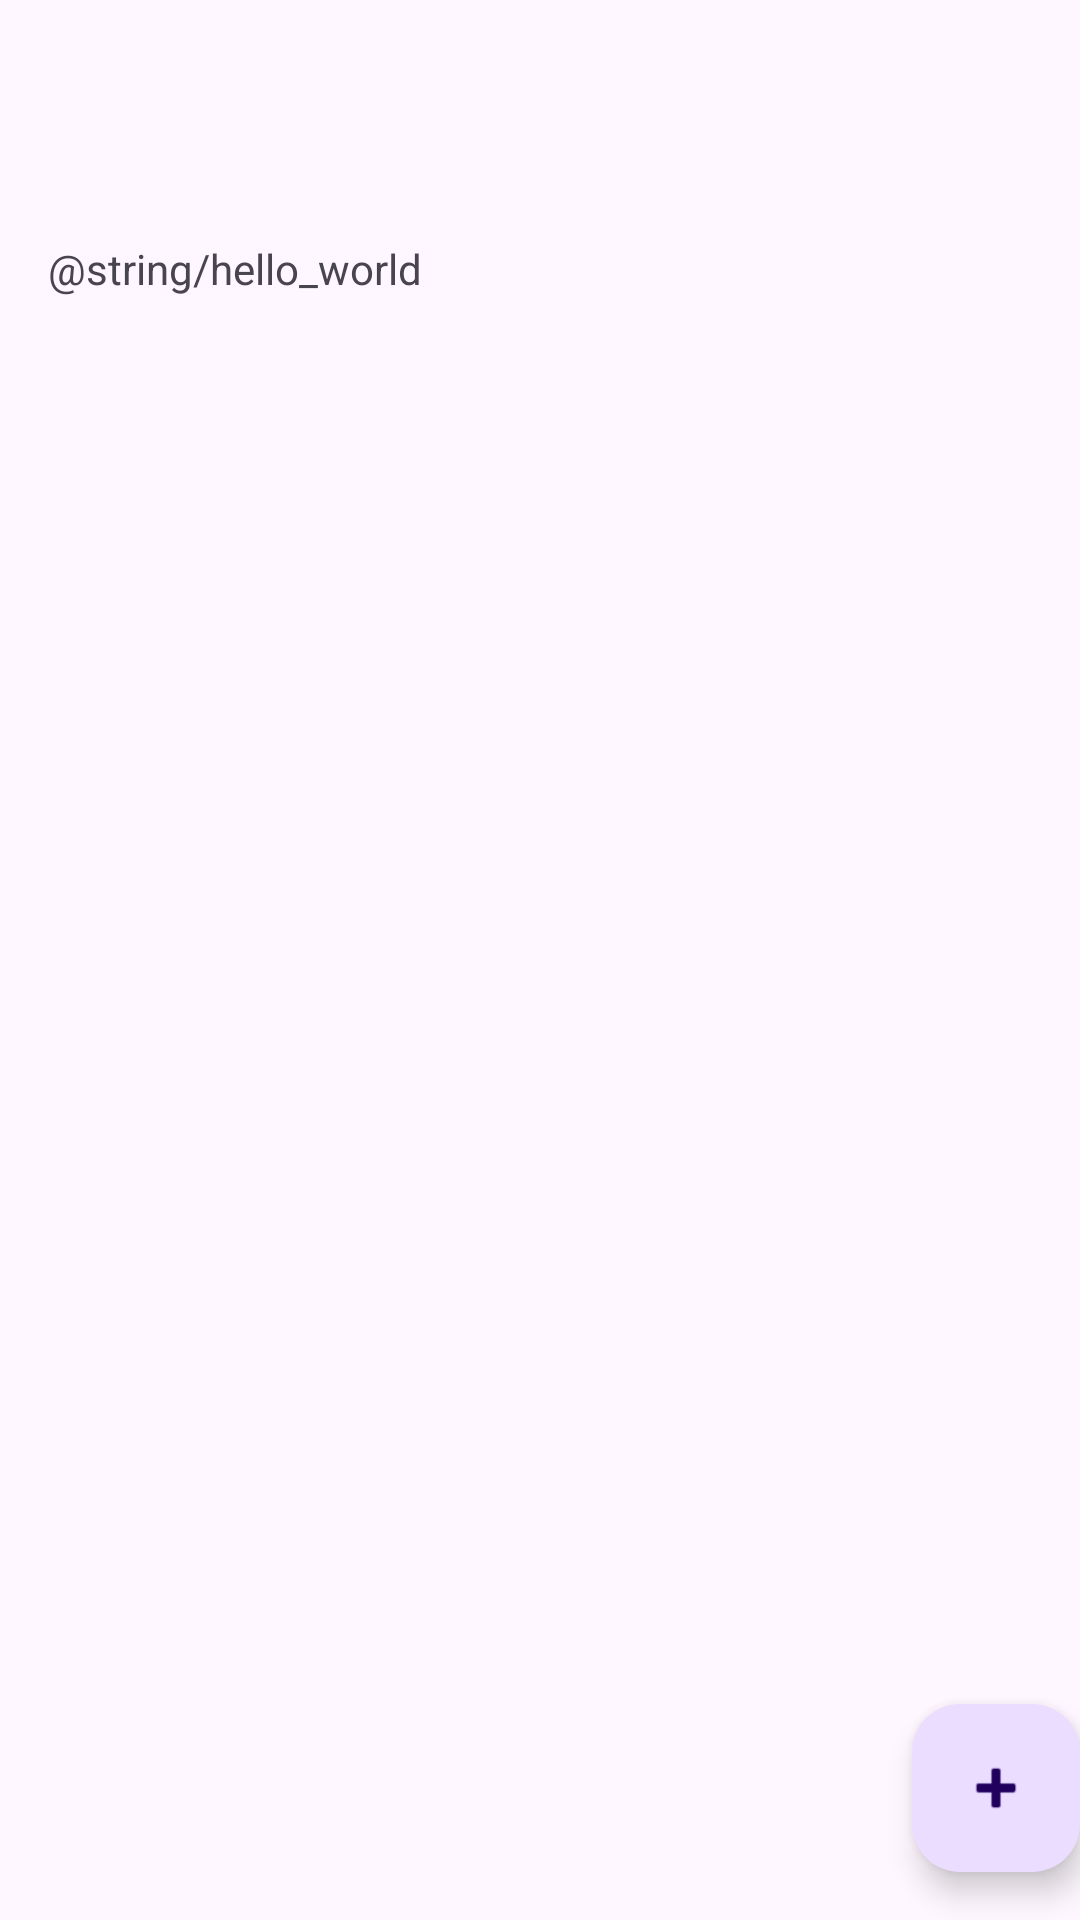

Icons on this 1080×1920 Android screen, each with the point to tap as (x,y):
Add new secret: (996,1788)
